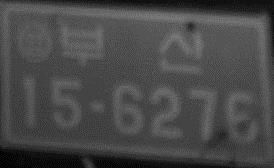-: (87, 97, 108, 117)
1: (17, 74, 44, 133)
2: (149, 85, 183, 142)
5: (49, 77, 85, 131)
6: (223, 90, 261, 146), (111, 82, 144, 137)
7: (186, 86, 219, 143)
부산_D: (56, 22, 205, 77)
영: (17, 21, 53, 65)
